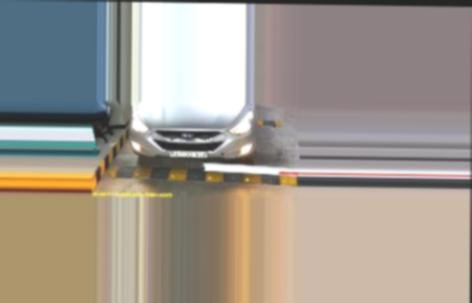License_Plate: (167, 149, 208, 159)
